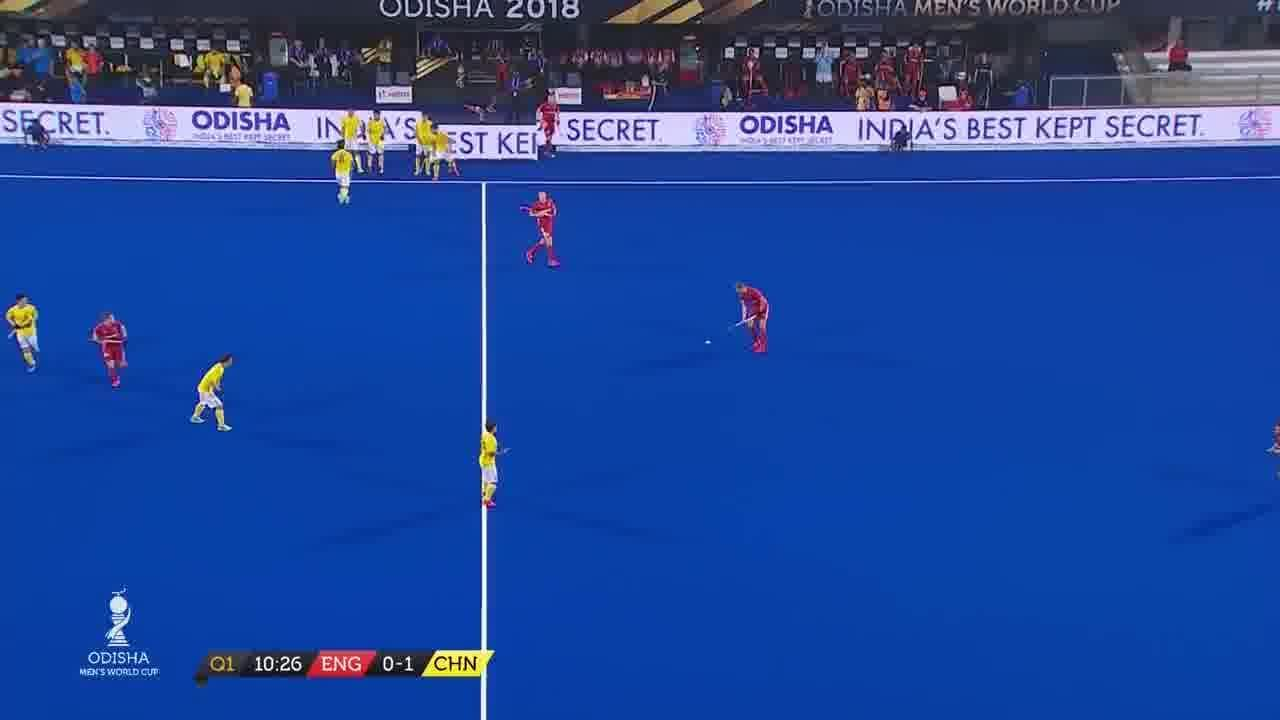ball: (701, 339, 713, 352)
